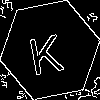K: (25, 25, 65, 76)
